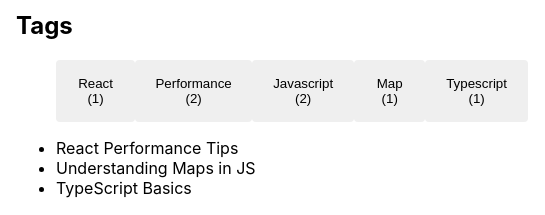
Scenario: TagFrequency Component › clears filter when clicked again
The image size is (545, 215).
Click the button "javascript (2)".
click(303, 91)  # box 252,60 -> 354,122
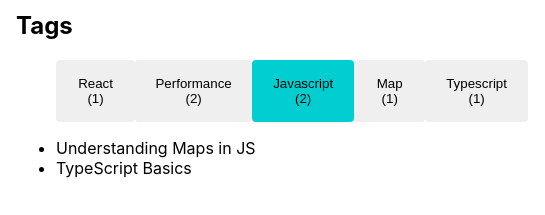
Click the button "javascript (2)".
click(303, 91)  # box 252,60 -> 354,122
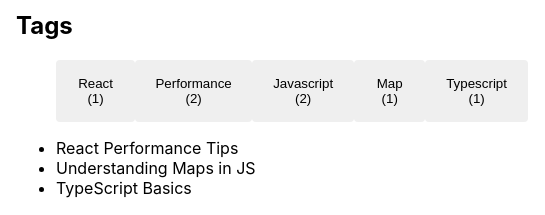
Check: the list item "Understanding Maps in JS" is shown, box 56,158 -> 256,178
Check: the list item "React Performance Tips" is shown, box 56,138 -> 238,158
